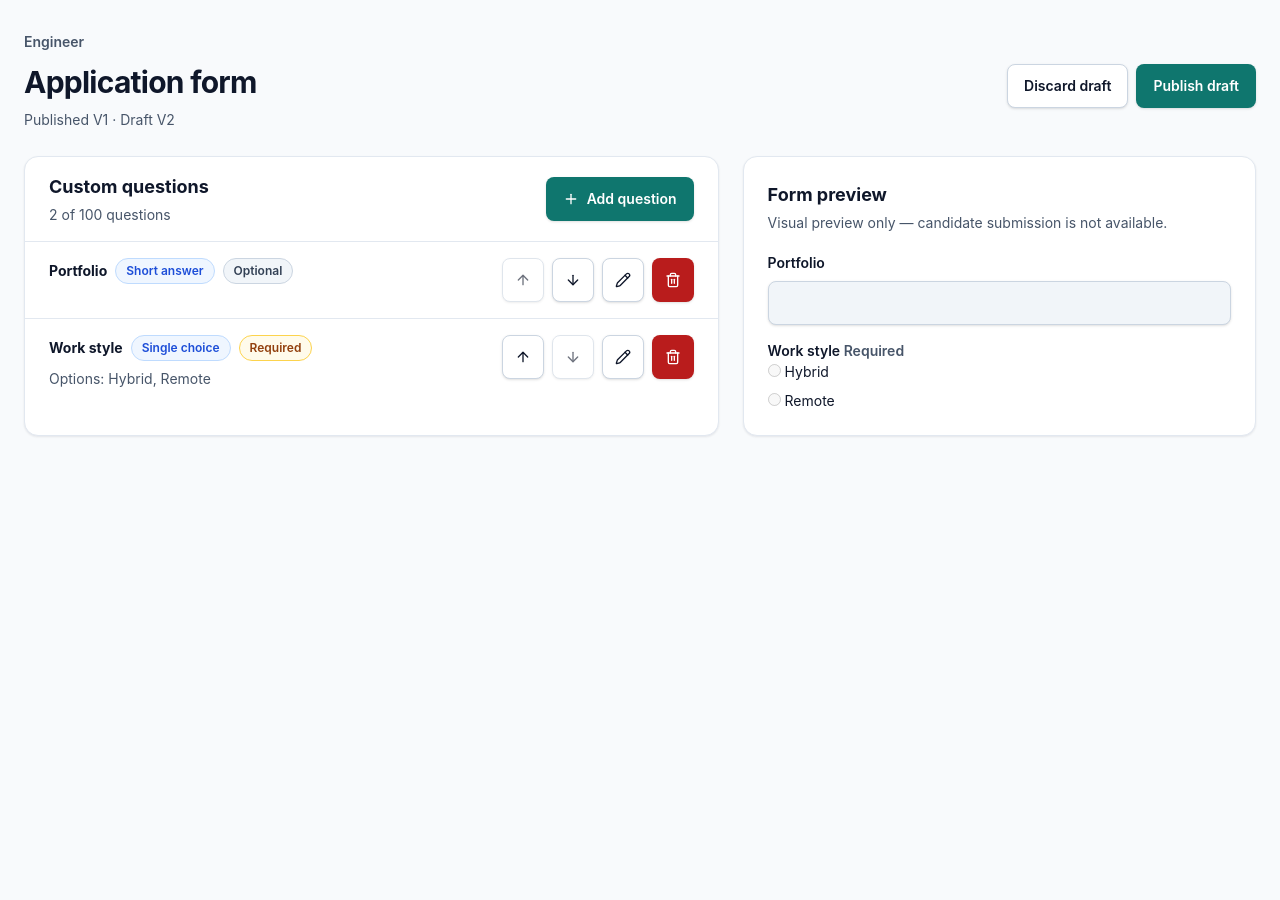
Test: Application Form Builder page › choice editor limits options and removes choices when switching type
Click the 3rd button named "Edit Work style".
click(623, 356)  # box [602,334,644,378]
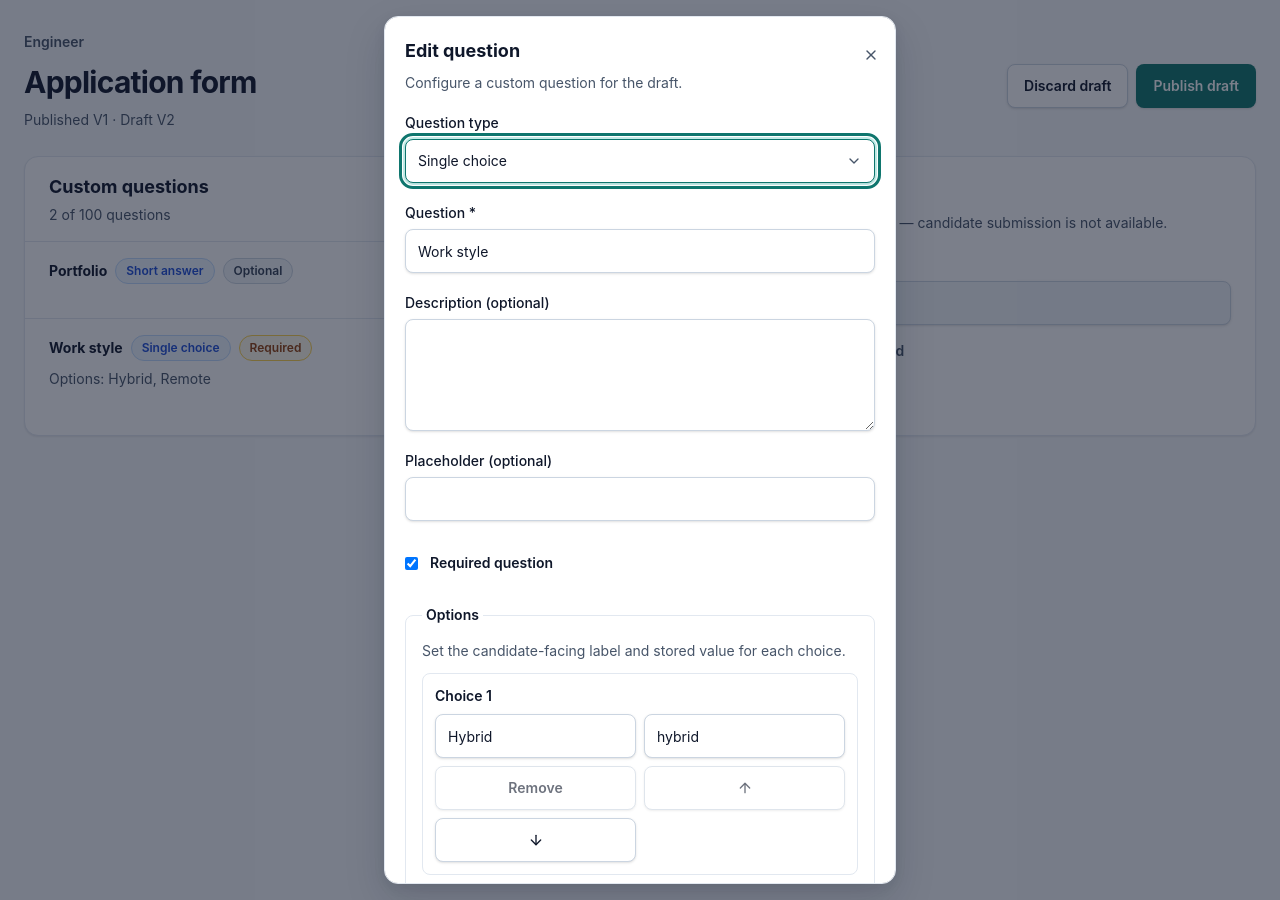
Select "Short answer" in the dropdown labelled "Question type" at [640, 161], box [405,139,875,183]
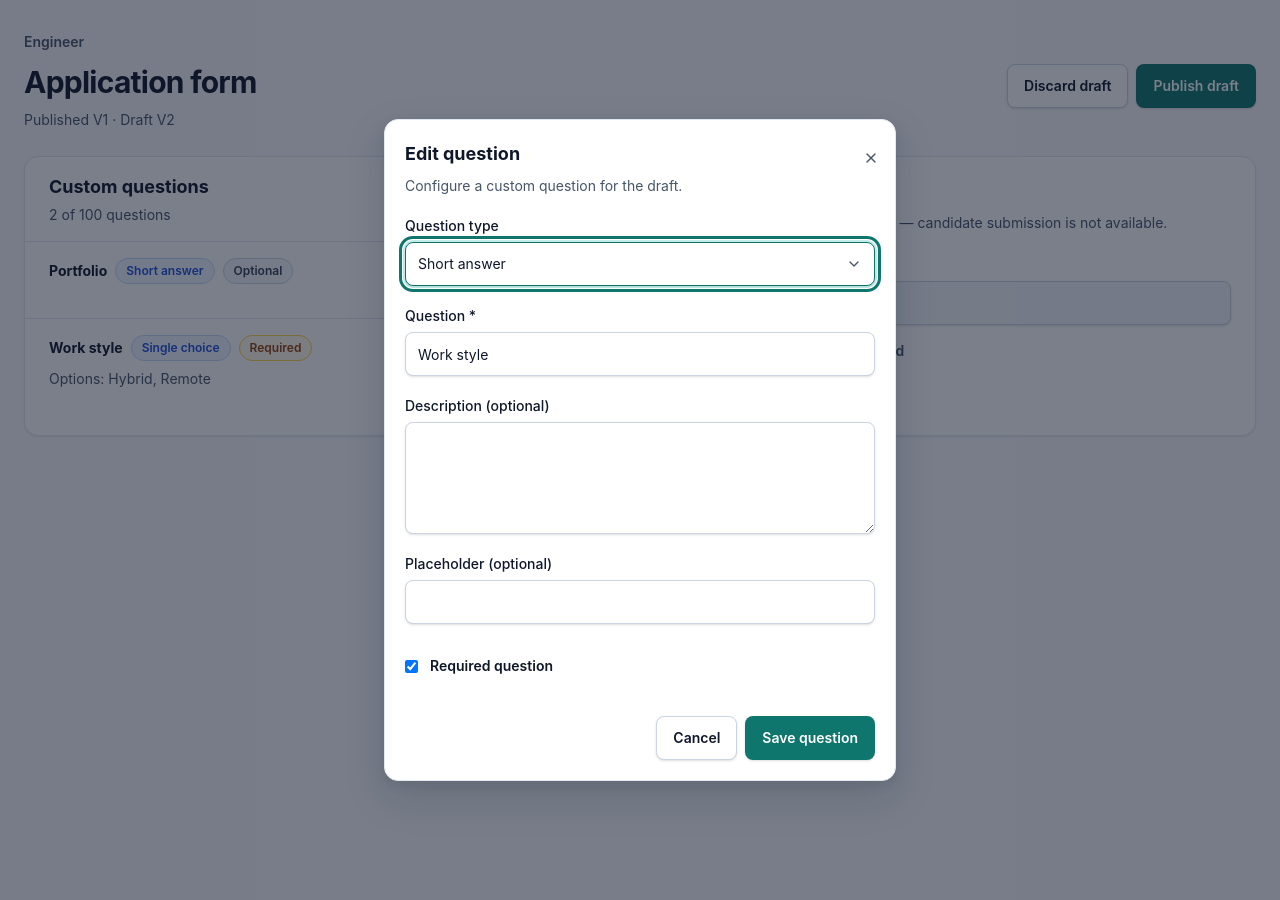
Select "Multiple choice" in the dropdown labelled "Question type" at [640, 264], box [405,242,875,286]
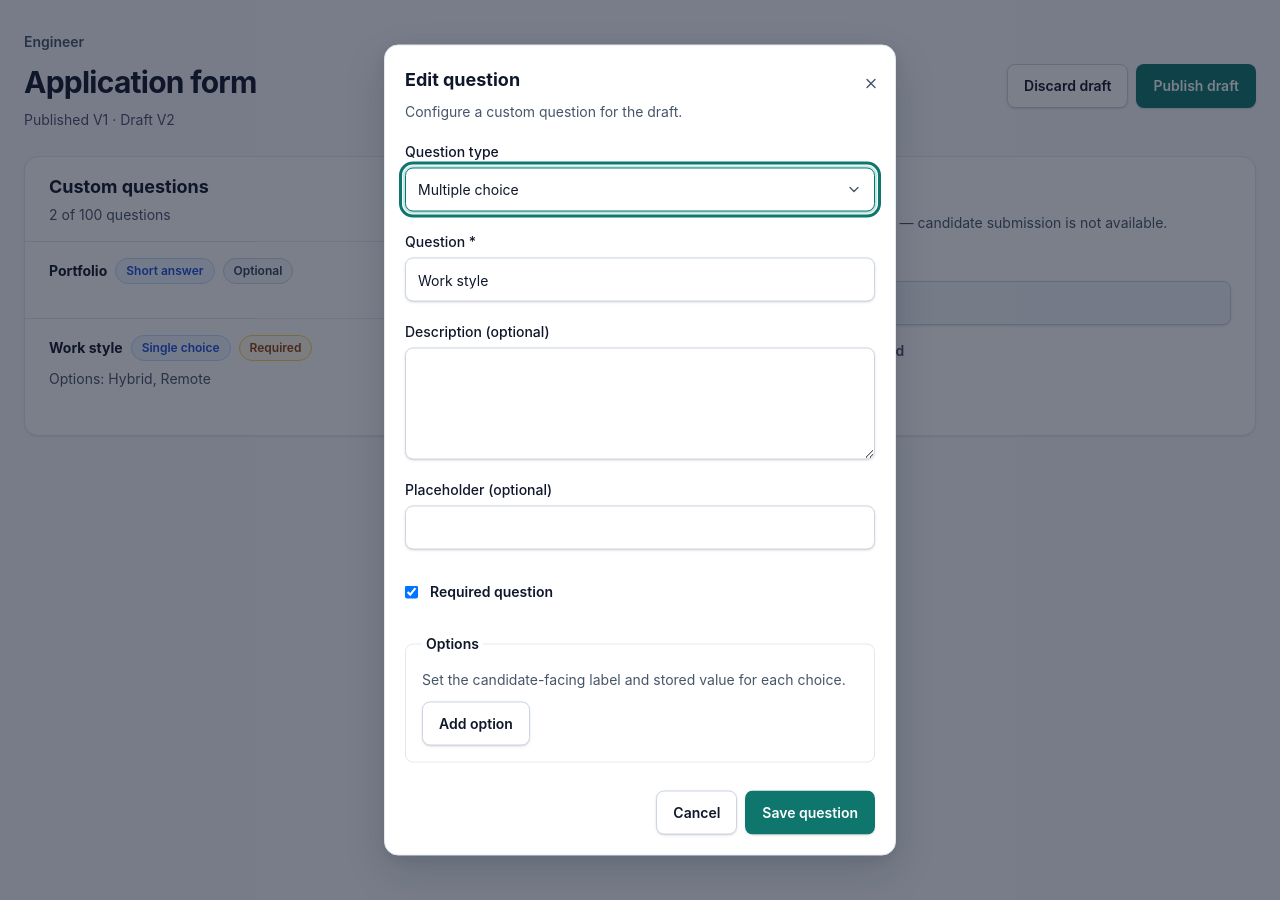
Now the text "Options" is shown, box [422,634,483,654]
